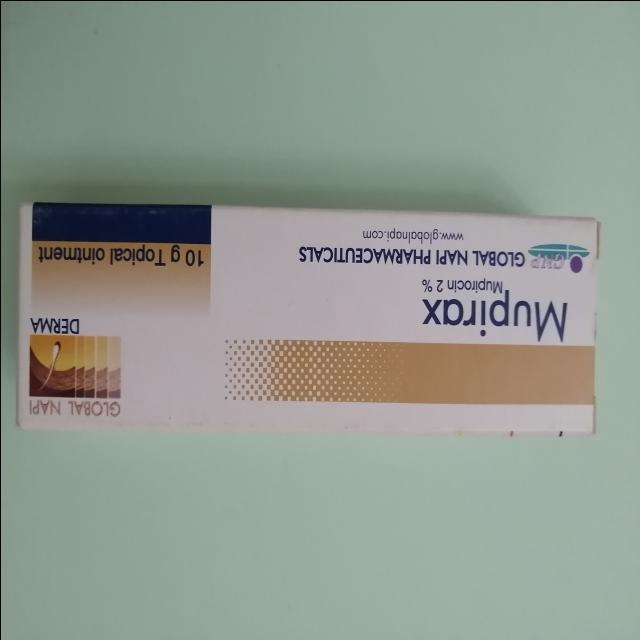Medicine Name: (419, 290, 576, 346)
